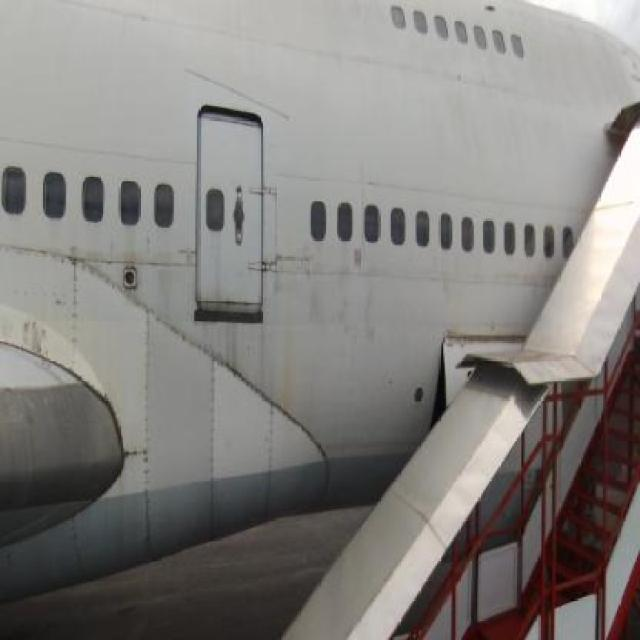Missing-Rivet: (68, 252, 87, 370), (120, 439, 154, 464)
Rust: (277, 309, 301, 429), (441, 318, 532, 345), (199, 285, 261, 318), (220, 318, 248, 372), (117, 224, 149, 268)
Scartch: (335, 271, 396, 346), (15, 305, 68, 363)
